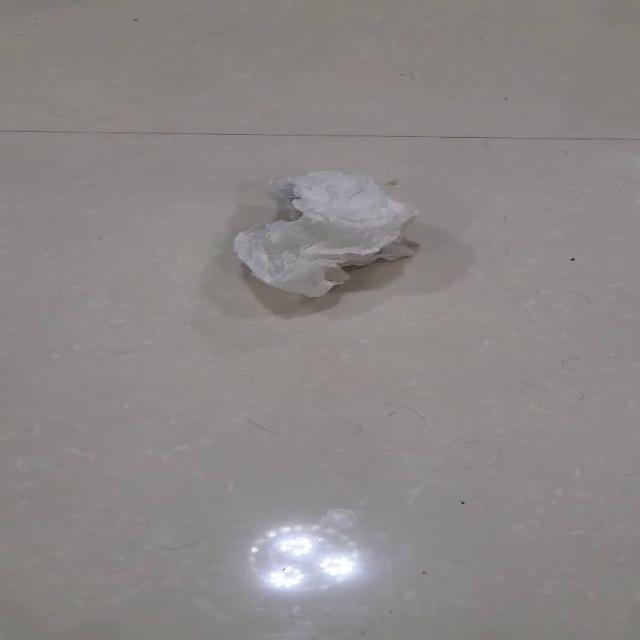plastic: (232, 168, 418, 298)
